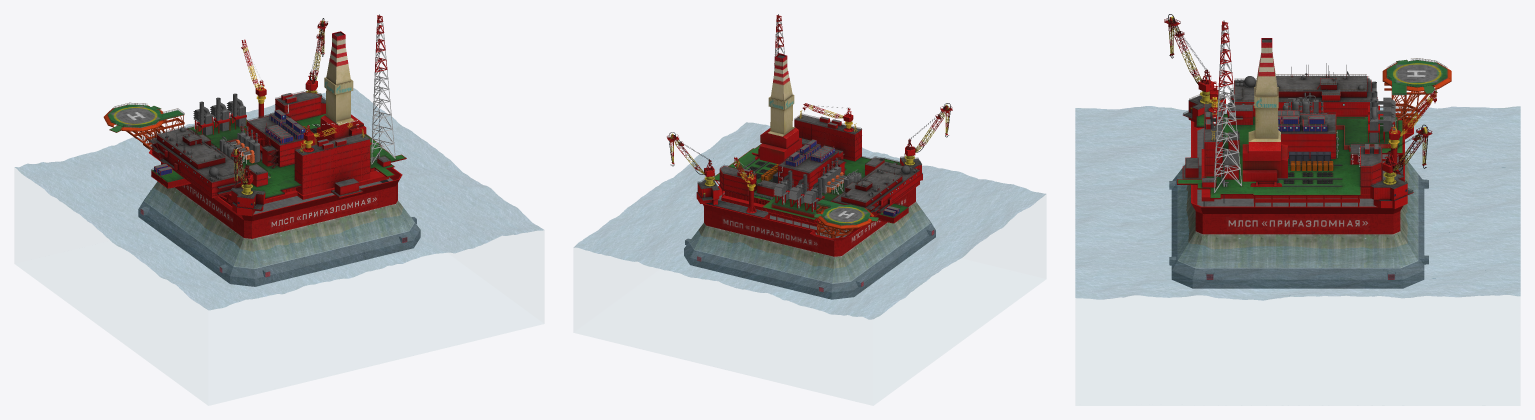
File: prirazlomnaya.glb
3 renders of one model, left to right at view 1: azimuth 30°, elevation 25°; view 2: azimuth 150°, elevation 25°; view 3: azimuth 270°, elevation 25°, orthographic. The views are drawn at different scales.
Visible parts, largest first — view 1: Box001, Kesson_DOWN, Kesson_UP, Roof, Block_kran, Vishka_Neft, Zabor_Rail_mtl_0, Board, HeliPad, Block_living, Vishka, StufBig_A (+10 smaller); view 2: Box001, Kesson_DOWN, Kesson_UP, Roof, Vishka_Neft, Zabor_Rail_mtl_0, Board, HeliPad, Block_kran, StufBig_A, Block_living, Kran_B_2 (+8 smaller); view 3: Box001, Kesson_DOWN, Kesson_UP, Roof, Board, Vishka_Neft, HeliPad, Zabor_Rail_mtl_0, Vishka, Kran_B_2, Block_living, Kesson_mid (+11 smaller).
Part boxes in pixels (x1=…): Box001: x1=15, y1=88, x2=543, y2=309; Kesson_DOWN: x1=138, y1=181, x2=420, y2=286; Kesson_UP: x1=149, y1=149, x2=402, y2=238; Roof: x1=149, y1=92, x2=390, y2=209; Block_kran: x1=294, y1=137, x2=370, y2=197; Vishka_Neft: x1=316, y1=31, x2=371, y2=144; Zabor_Rail_mtl_0: x1=108, y1=90, x2=390, y2=209; Board: x1=151, y1=113, x2=406, y2=199; HeliPad: x1=103, y1=104, x2=184, y2=149; Block_living: x1=149, y1=131, x2=250, y2=198; Vishka: x1=370, y1=14, x2=395, y2=164; StufBig_A: x1=193, y1=93, x2=246, y2=135; Box001: x1=574, y1=122, x2=1045, y2=319; Kesson_DOWN: x1=684, y1=202, x2=935, y2=299; Kesson_UP: x1=703, y1=186, x2=915, y2=256; Roof: x1=697, y1=115, x2=922, y2=217; Vishka_Neft: x1=751, y1=54, x2=801, y2=164; Zabor_Rail_mtl_0: x1=698, y1=113, x2=921, y2=225; Board: x1=714, y1=143, x2=907, y2=220; HeliPad: x1=813, y1=199, x2=878, y2=238; Block_kran: x1=794, y1=119, x2=861, y2=161; StufBig_A: x1=774, y1=170, x2=824, y2=211; Block_living: x1=832, y1=164, x2=919, y2=217; Kran_B_2: x1=667, y1=132, x2=719, y2=204; Box001: x1=1075, y1=106, x2=1520, y2=300; Kesson_DOWN: x1=1169, y1=157, x2=1428, y2=288; Kesson_UP: x1=1191, y1=113, x2=1413, y2=234; Roof: x1=1183, y1=76, x2=1412, y2=200; Board: x1=1177, y1=97, x2=1402, y2=199; Vishka_Neft: x1=1242, y1=38, x2=1287, y2=186; HeliPad: x1=1382, y1=59, x2=1451, y2=132; Zabor_Rail_mtl_0: x1=1182, y1=58, x2=1447, y2=193; Vishka: x1=1214, y1=20, x2=1241, y2=202; Kran_B_2: x1=1370, y1=124, x2=1432, y2=208; Block_living: x1=1230, y1=74, x2=1371, y2=116; Kesson_mid: x1=1197, y1=128, x2=1398, y2=206.
Bounding box in the file's own units: 222 × 181 × 222.
32 materials, 25 textured.
